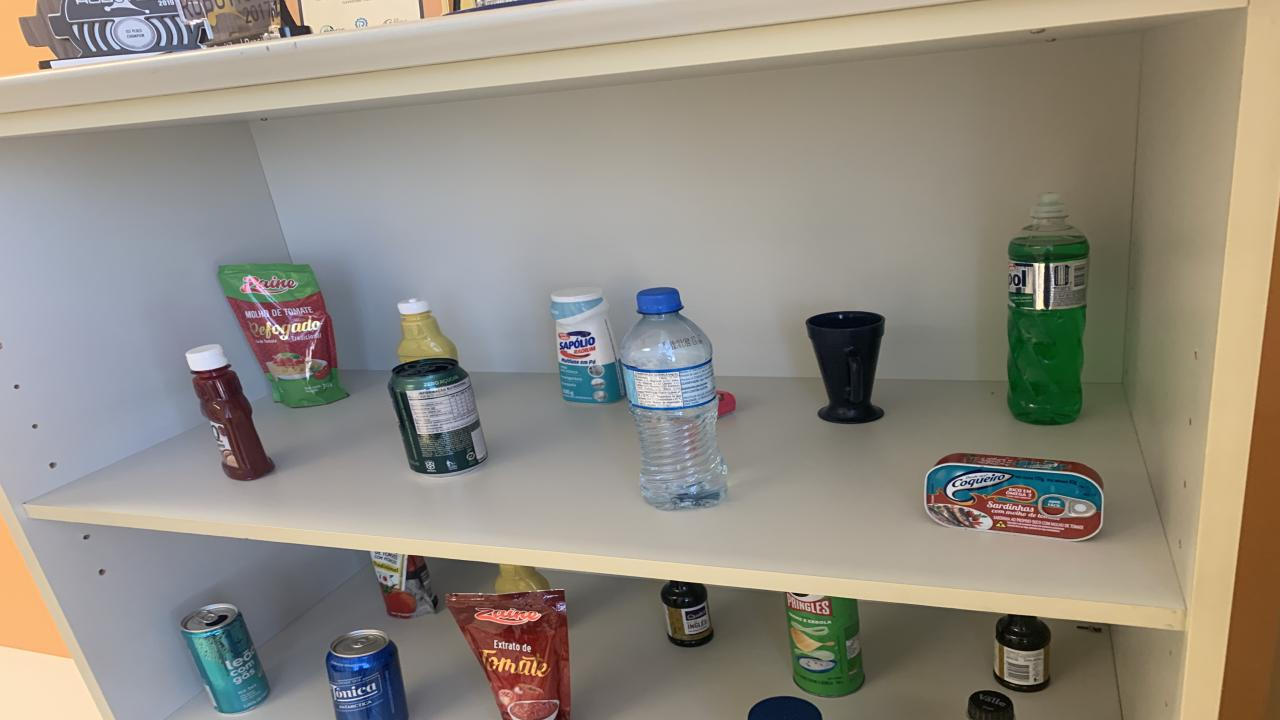Cleaner-Cleanup_Items: (550, 287, 625, 403)
Detergent-Cleanup_Items: (1008, 193, 1090, 426)
English_Sauce-Pantry_Items: (995, 615, 1050, 692), (660, 581, 712, 647)
Guarana_Can-Drinks: (388, 358, 488, 476)
Ketchup-Pantry_Items: (185, 345, 275, 480)
Mayonnaise-Pantry_Items: (748, 696, 822, 720)
Mustard-Pantry_Items: (398, 298, 458, 362), (495, 564, 550, 592)
Pringles-Snacks: (785, 592, 865, 698)
Soap-Cleanup_Items: (718, 390, 735, 416)
Soda-Drinks: (968, 690, 1015, 720)
Tea-Drinks: (182, 604, 270, 712)
Tomato_Sauce-Pantry_Items: (218, 264, 348, 407), (445, 589, 570, 720), (370, 551, 438, 619)
Tonic-Drinks: (328, 630, 408, 720)
Tuna_Can-Pantry_Items: (925, 454, 1105, 540)
Water_Bottle-Drinks: (620, 287, 728, 510)
